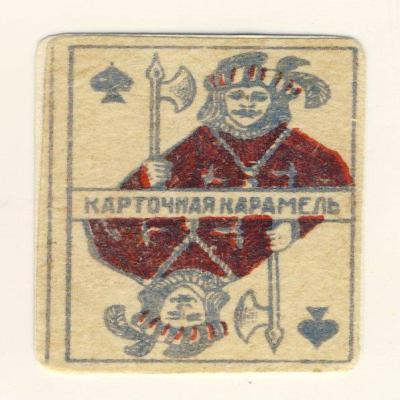graphics: (31, 32, 365, 378)
